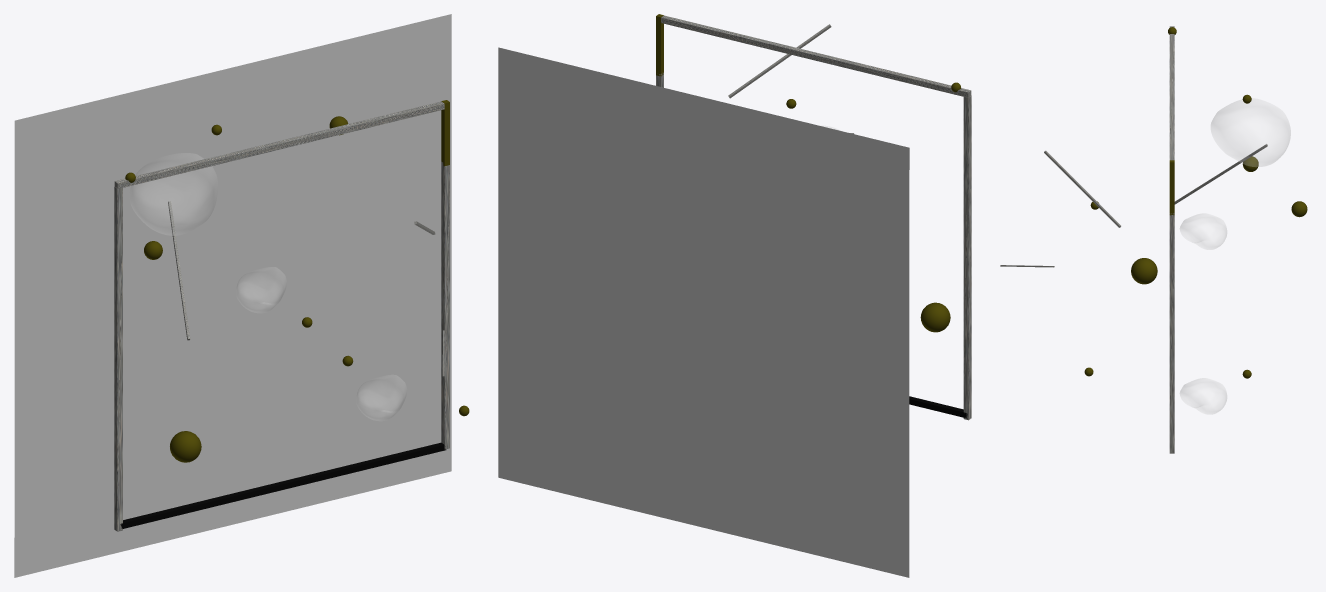
The model's file is app6.fbx.
The picture shows the model from 3 angles, left to right: view 1: azimuth 30°, elevation 25°; view 2: azimuth 150°, elevation 25°; view 3: azimuth 270°, elevation 25°; orthographic projection. The views are drawn at different scales.
Visible parts, largest first — view 1: Plane, Landscape_2, Cube_3_2, Cube_3_3, Cube_1_2, Cube_2_4, Landscape, Landscape_1, Sphere_5; view 2: Plane, Cube_3_2, Cube_3_3, Sphere_5; view 3: Landscape_2, Cube_2_4, Landscape_1, Landscape, Cube_3_3, Sphere_5.
Part boxes in pixels (left/top/right/bottom): Plane: left=14, top=14, right=451, bottom=577; Landscape_2: left=130, top=153, right=217, bottom=235; Cube_3_2: left=114, top=186, right=122, bottom=531; Cube_3_3: left=114, top=101, right=444, bottom=188; Cube_1_2: left=120, top=442, right=446, bottom=528; Cube_2_4: left=441, top=161, right=449, bottom=449; Landscape: left=236, top=267, right=286, bottom=312; Landscape_1: left=356, top=375, right=406, bottom=420; Sphere_5: left=170, top=431, right=201, bottom=462; Plane: left=498, top=47, right=909, bottom=577; Cube_3_2: left=963, top=95, right=971, bottom=420; Cube_3_3: left=661, top=15, right=971, bottom=97; Sphere_5: left=920, top=302, right=950, bottom=332; Landscape_2: left=1211, top=98, right=1290, bottom=166; Cube_2_4: left=1169, top=213, right=1174, bottom=453; Landscape_1: left=1180, top=378, right=1226, bottom=414; Landscape: left=1180, top=213, right=1226, bottom=249; Cube_3_3: left=1169, top=26, right=1174, bottom=160; Sphere_5: left=1131, top=258, right=1157, bottom=284.
Size of the model in its own units: 400 by 400 by 294.
